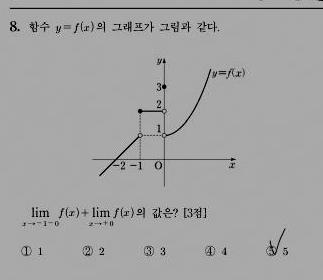choice: (264, 239, 279, 258)
not-choice: (19, 244, 33, 257), (203, 244, 217, 257), (81, 244, 94, 257), (142, 244, 155, 257)
